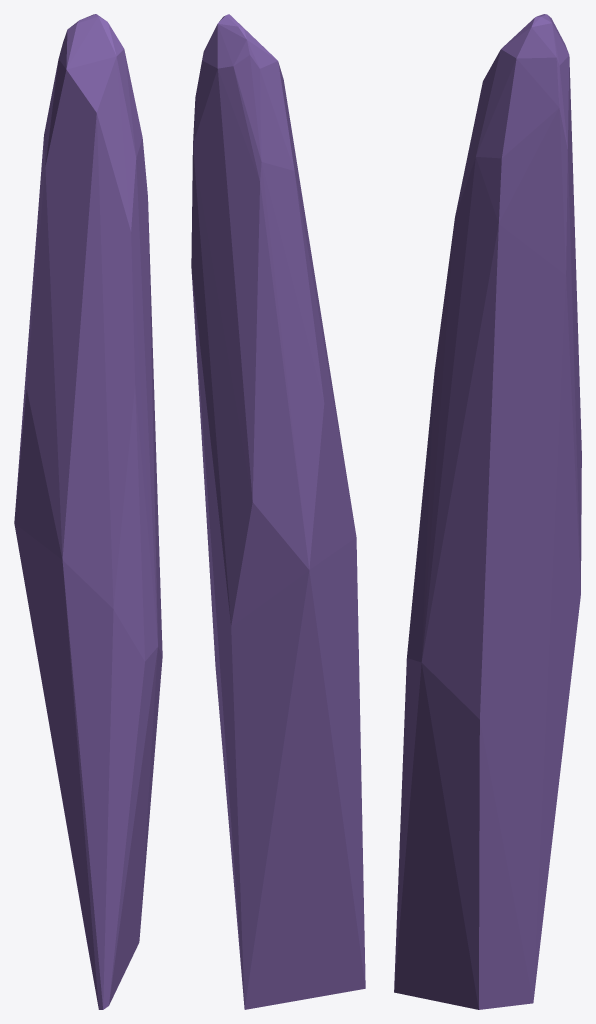
Rendered from food_produce_freshCarrot_a01.glb.
The picture shows the model from 3 angles, left to right: view 1: azimuth 30°, elevation 25°; view 2: azimuth 150°, elevation 25°; view 3: azimuth 270°, elevation 25°; orthographic projection. The views are drawn at different scales.
Visible parts, largest first — view 1: geometry_0; view 2: geometry_0; view 3: geometry_0.
Part boxes in pixels (x1=…): geometry_0: x1=14, y1=14, x2=162, y2=1009; geometry_0: x1=191, y1=14, x2=365, y2=1009; geometry_0: x1=394, y1=14, x2=581, y2=1009.
Size of the model in its own units: 0.0632 by 0.4754 by 0.0802.
